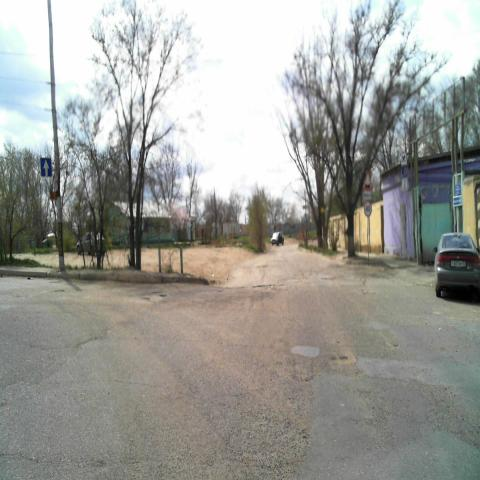1_16: (364, 173, 373, 190)
